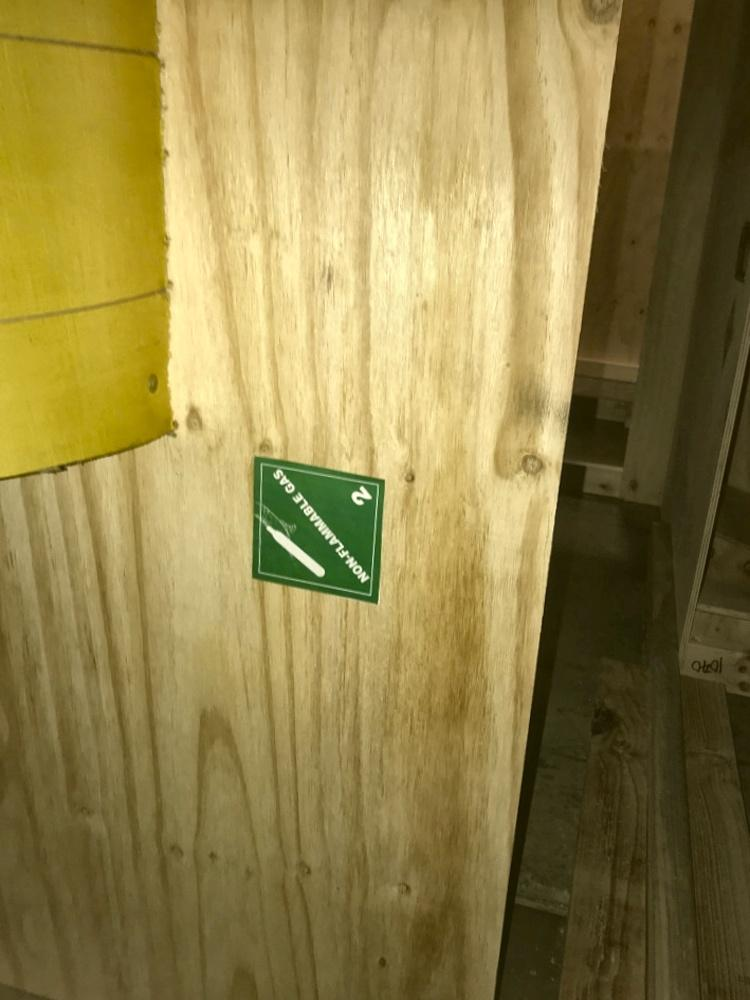non-flammable-gas: (246, 456, 387, 604)
